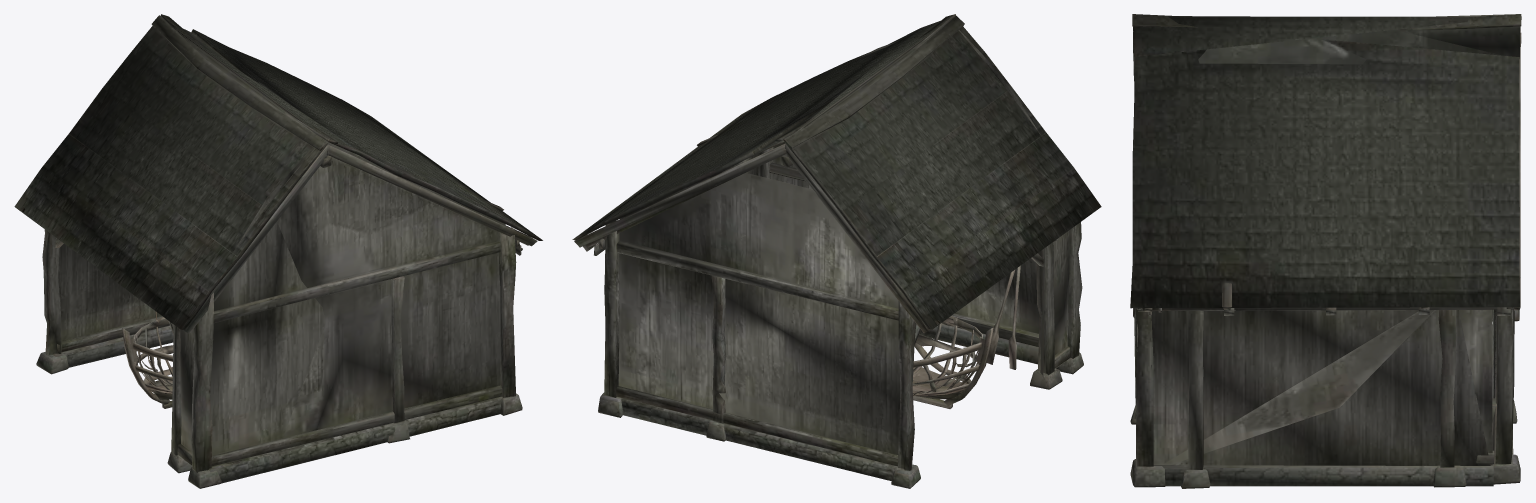
File: boathouse.glb
3 renders of one model, left to right at view 1: azimuth 30°, elevation 25°; view 2: azimuth 150°, elevation 25°; view 3: azimuth 270°, elevation 25°, orthographic. The views are drawn at different scales.
Size of the model in its own units: 0.9482 by 0.8106 by 0.7769.
Materials: 1 (1 with a texture image).
